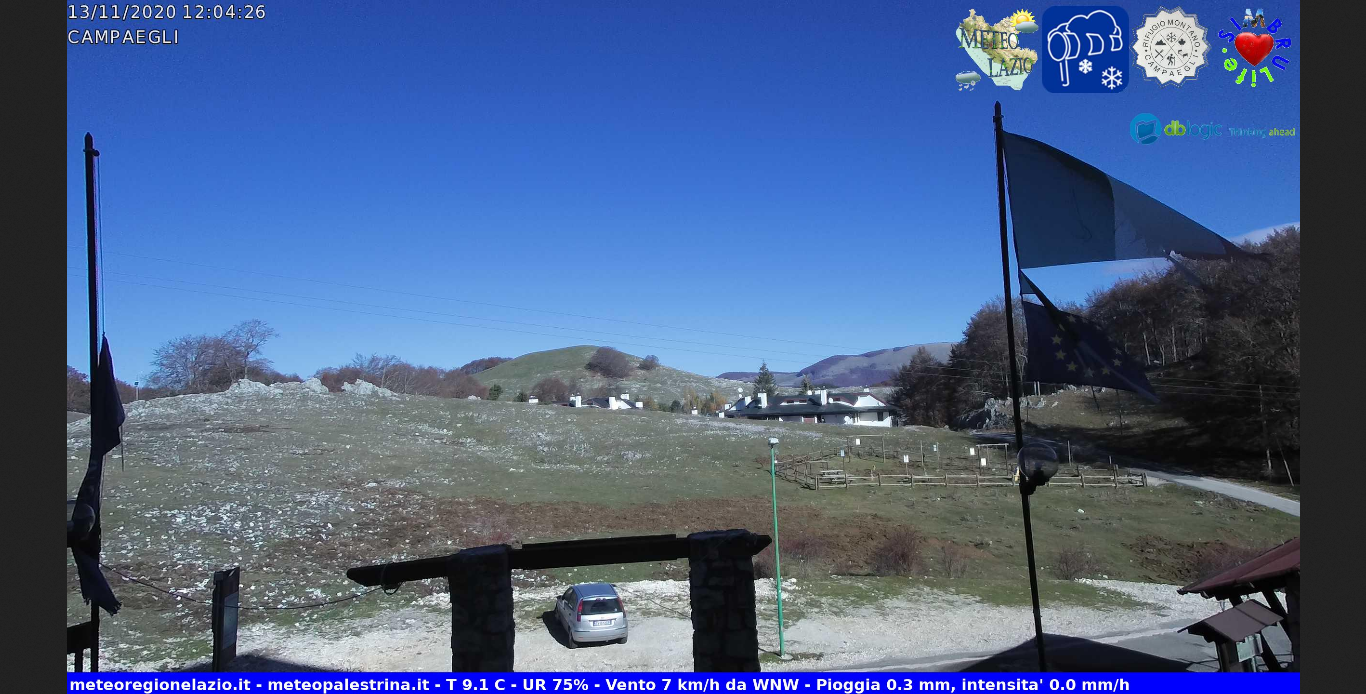maybe: (986, 98, 1268, 279), (1002, 292, 1167, 402)
